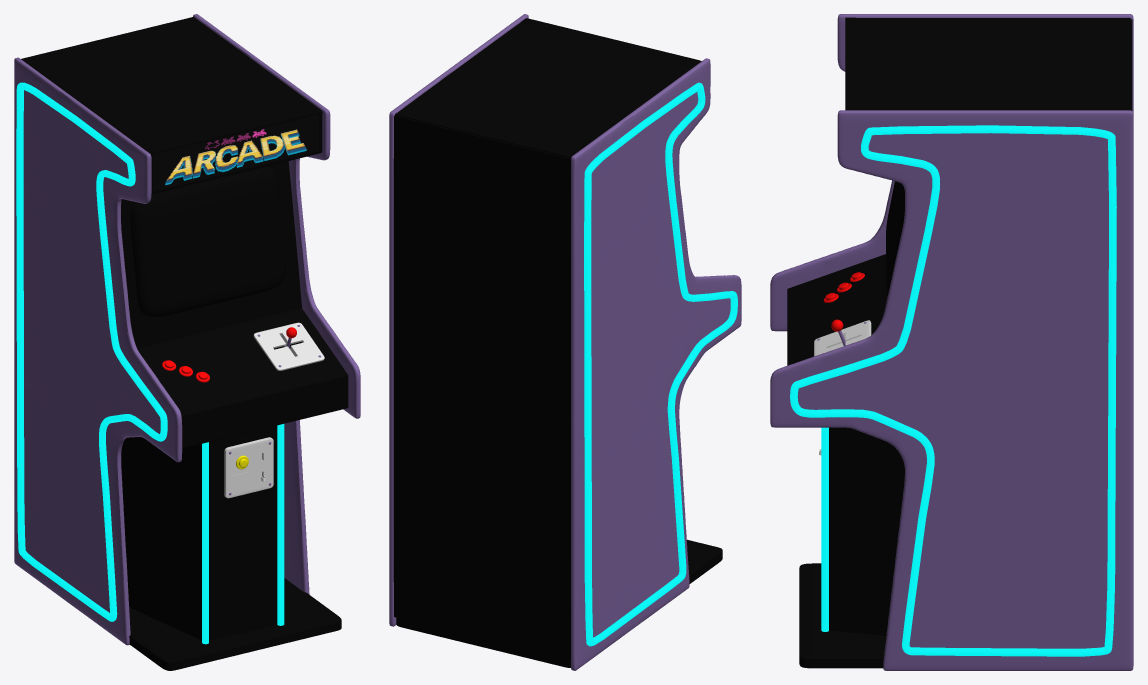
3 views of the same model, side by side, from view 1: azimuth 30°, elevation 25°; view 2: azimuth 150°, elevation 25°; view 3: azimuth 270°, elevation 25° (orthographic). The views are drawn at different scales.
Parts seen in each view (by area): view 1: object 37, object 32, object 1, object 21, object 14, object 27, Sweep_NURBS_1, object 31, object 38, object 28, object 33, object 26 (+4 smaller); view 2: object 34, object 37, object 32, Sweep_NURBS_1, object 38, object 33, object 31; view 3: object 38, object 32, Sweep_NURBS, object 22, object 27, object 37, object 33, object 13, object 1, object 31, object 20.
Boxes of the visible parts, bbox=[...] form: object 37: bbox=[14, 57, 182, 645]; object 32: bbox=[21, 16, 316, 149]; object 1: bbox=[130, 166, 285, 317]; object 21: bbox=[121, 437, 201, 640]; object 14: bbox=[209, 425, 277, 641]; object 27: bbox=[137, 308, 347, 414]; Sweep_NURBS_1: bbox=[16, 82, 167, 621]; object 31: bbox=[145, 107, 322, 194]; object 38: bbox=[193, 14, 360, 594]; object 28: bbox=[121, 161, 301, 348]; object 33: bbox=[129, 578, 341, 670]; object 26: bbox=[181, 375, 348, 448]; object 34: bbox=[393, 115, 570, 659]; object 37: bbox=[571, 58, 741, 670]; object 32: bbox=[395, 22, 696, 158]; Sweep_NURBS_1: bbox=[584, 82, 737, 646]; object 38: bbox=[389, 14, 528, 626]; object 33: bbox=[396, 539, 722, 667]; object 31: bbox=[521, 18, 701, 64]; object 38: bbox=[770, 110, 1133, 670]; object 32: bbox=[856, 18, 1130, 110]; Sweep_NURBS: bbox=[790, 125, 1116, 656]; object 22: bbox=[829, 427, 904, 635]; object 27: bbox=[788, 254, 887, 364]; object 37: bbox=[770, 14, 1133, 331]; object 33: bbox=[799, 563, 886, 668]; object 13: bbox=[821, 427, 828, 631]; object 1: bbox=[886, 181, 904, 296]; object 31: bbox=[845, 17, 856, 110]; object 20: bbox=[814, 320, 871, 356].
Bounding box in the file's own units: 64.98 × 161 × 94.76.
Materials: 9 (1 with a texture image).
